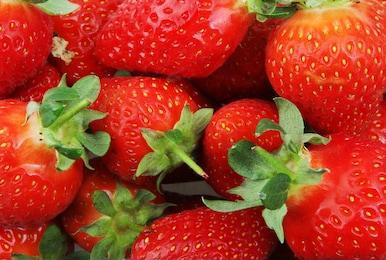Fresa: (262, 1, 386, 146), (70, 69, 211, 193), (94, 1, 259, 84), (200, 91, 313, 207), (1, 93, 91, 227)
